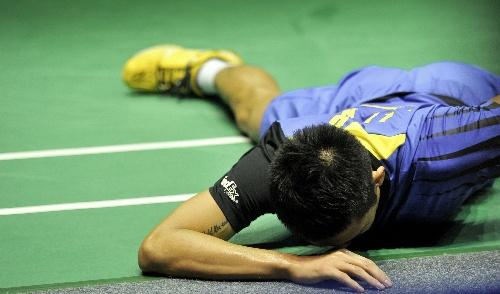fall: (122, 8, 484, 291)
